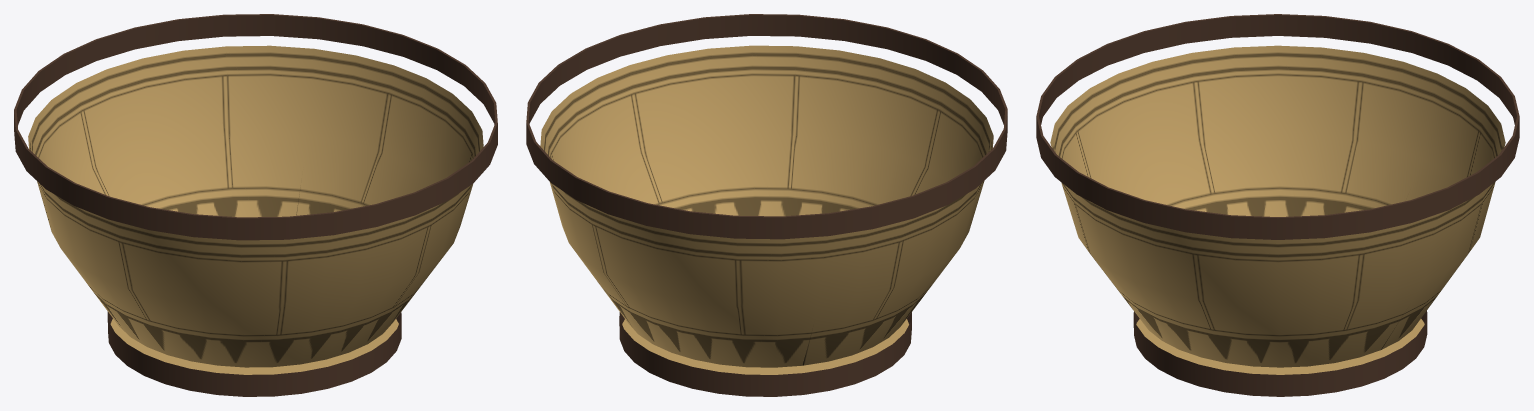
Rendered from Pot.fbx.
3 renders of one model, left to right at view 1: azimuth 30°, elevation 25°; view 2: azimuth 150°, elevation 25°; view 3: azimuth 270°, elevation 25°, orthographic.
Visible parts, largest first — view 1: Pot; view 2: Pot; view 3: Pot.
Part boxes in pixels (x1,y1,x2,y2): Pot: (14, 14, 497, 396); Pot: (526, 14, 1007, 396); Pot: (1036, 14, 1519, 396).
Bounding box in the file's own units: 2 × 1 × 2.
